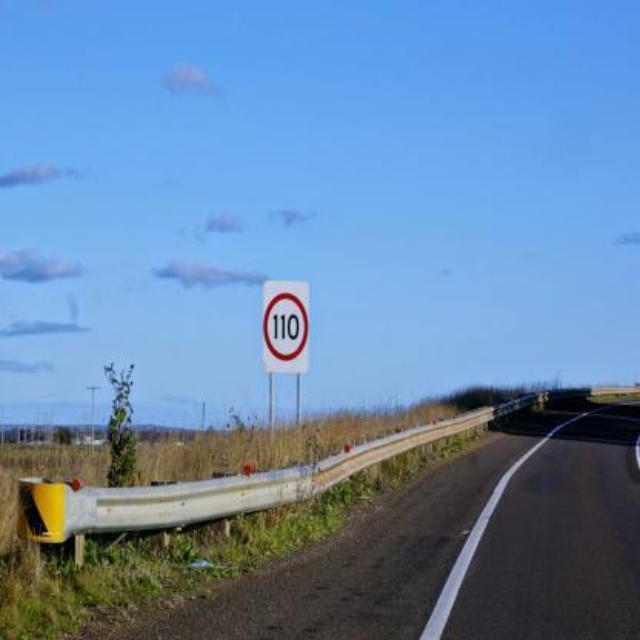Tốc độ tối đa cho phép 110km/h: (264, 294, 307, 360)
